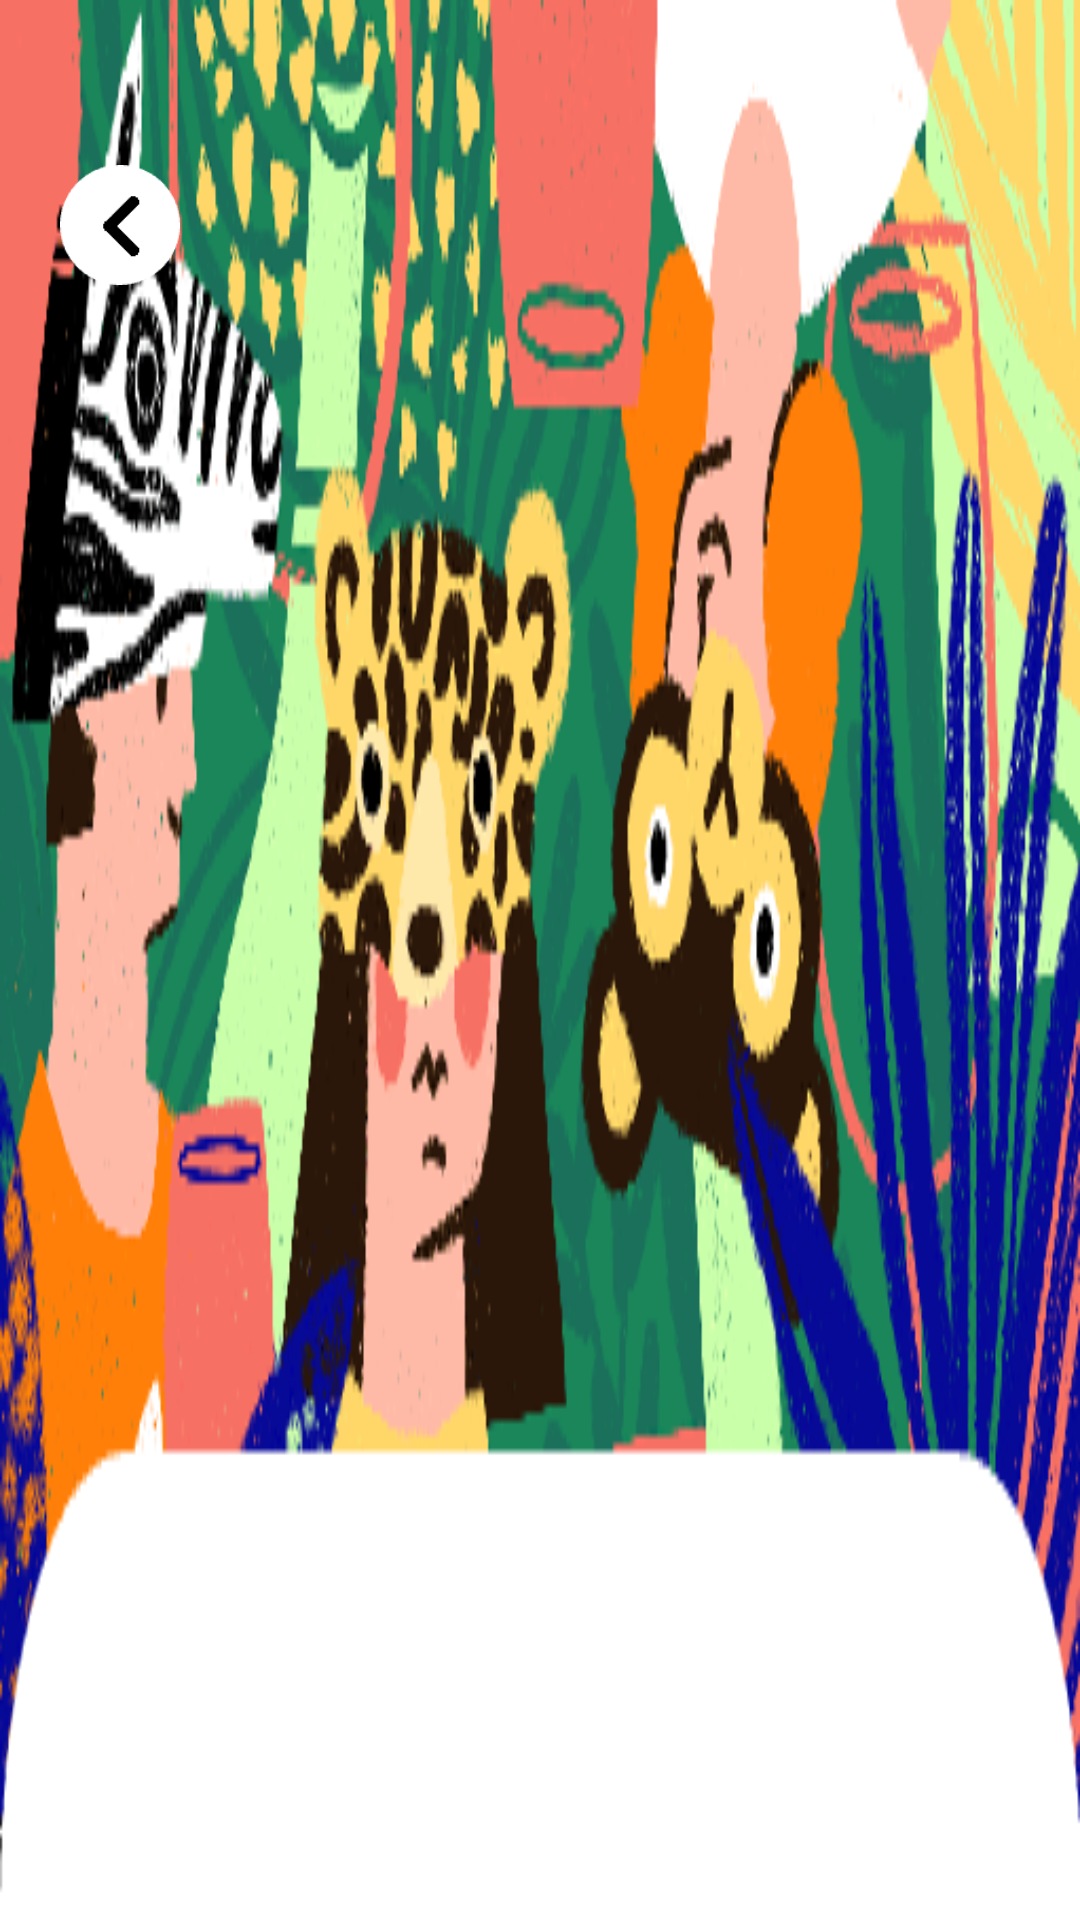

Point at icon controls on the screen. Image size 1080*1920, points as point (x, y).
return: point (105, 225)
